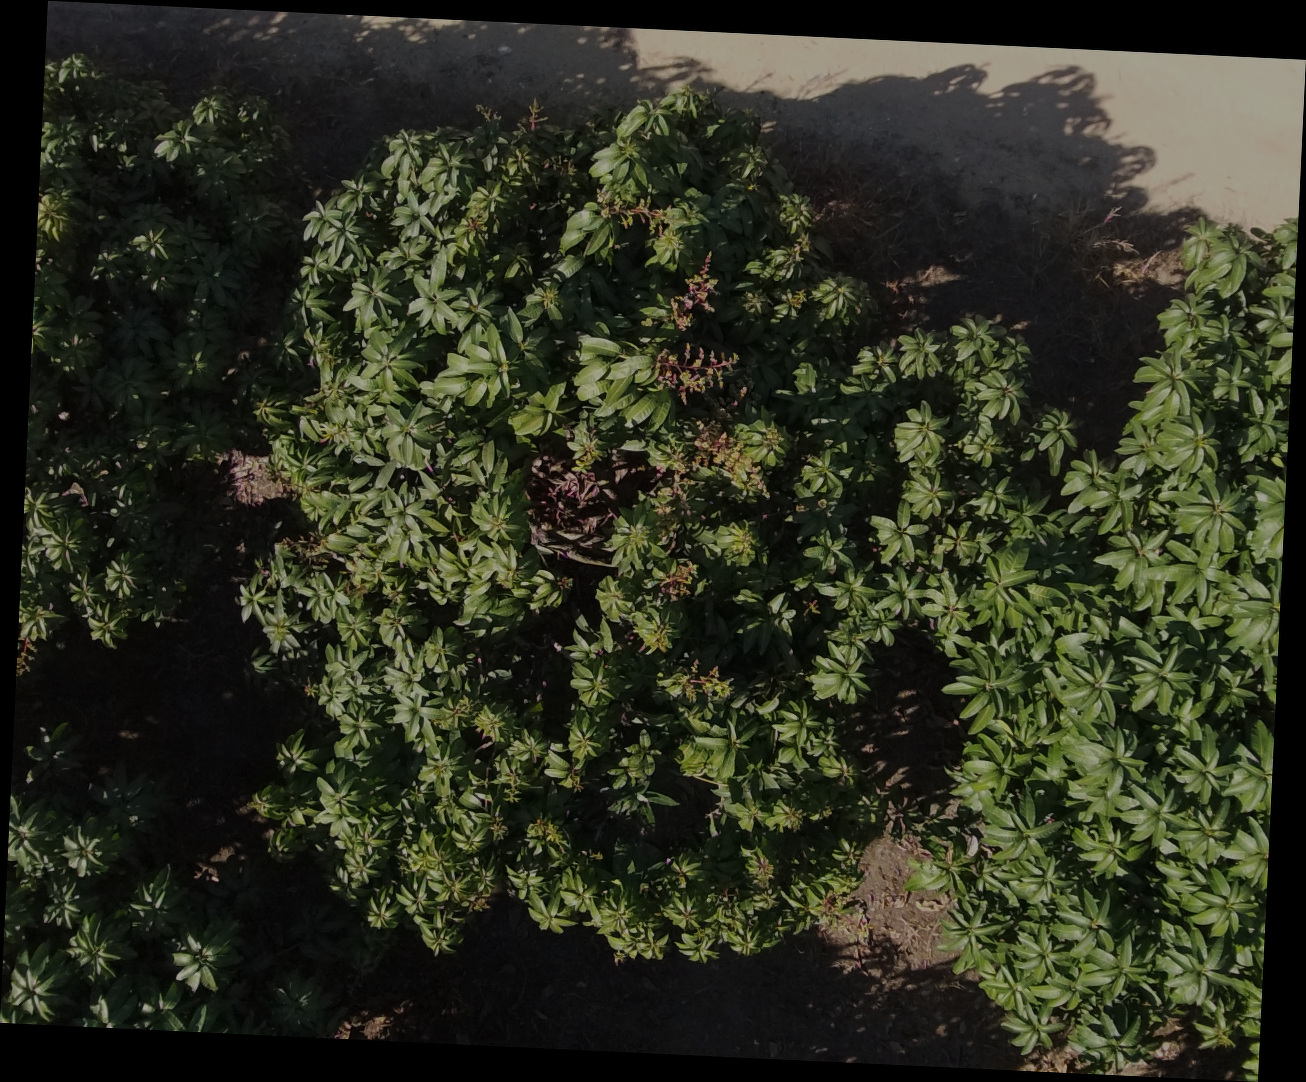flowers: (673, 423, 772, 496), (656, 344, 737, 404), (671, 251, 718, 331)
